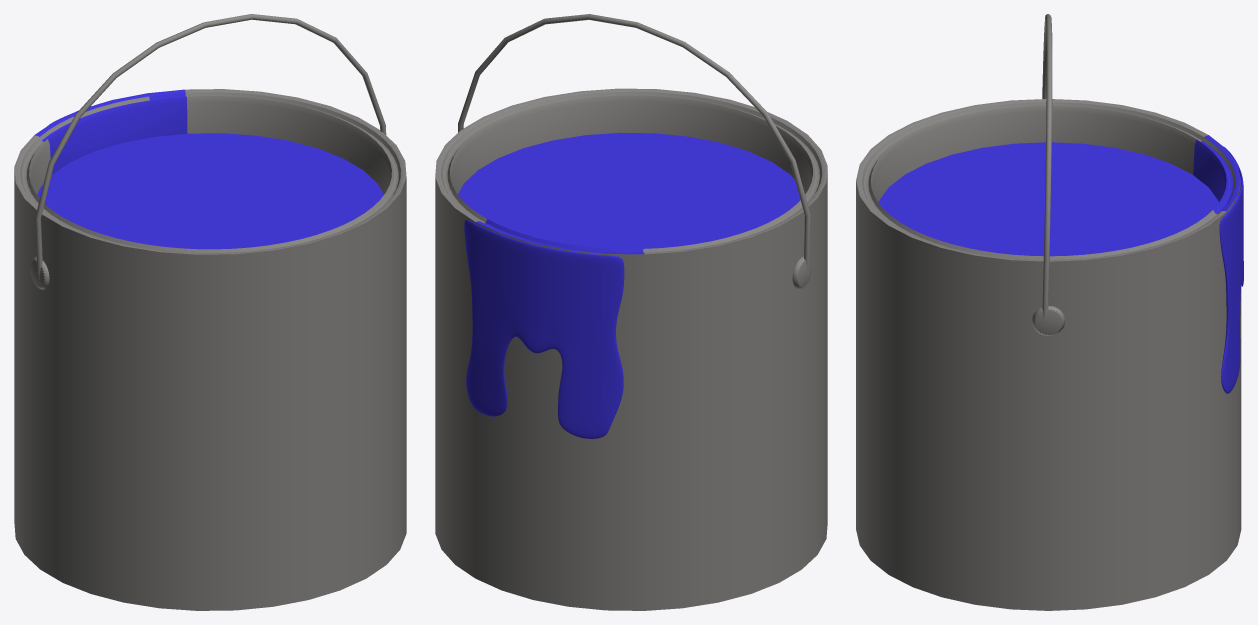
Rendered from paintBucket.fbx.
3 views of the same model, side by side, from view 1: azimuth 30°, elevation 25°; view 2: azimuth 150°, elevation 25°; view 3: azimuth 270°, elevation 25° (orthographic). The views are drawn at different scales.
Visible parts, largest first — view 1: Cylinder, BézierCurve; view 2: Cylinder, BézierCurve; view 3: Cylinder, BézierCurve.
Part boxes in pixels (<box>): Cylinder: <box>14,89,406,610</box>; BézierCurve: <box>35,14,386,279</box>; Cylinder: <box>435,88,827,610</box>; BézierCurve: <box>458,14,810,275</box>; Cylinder: <box>856,99,1243,610</box>; BézierCurve: <box>1042,14,1052,326</box>.
Size of the model in its own units: 208 by 285 by 201.
